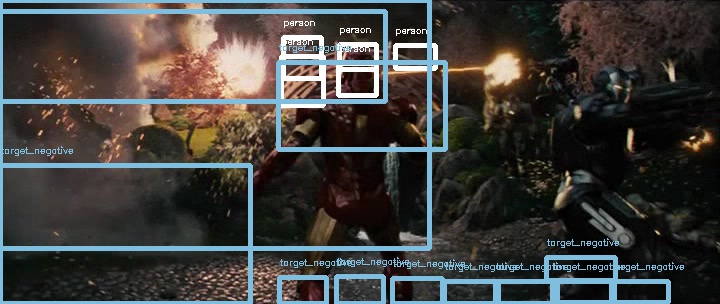person: (335, 46, 377, 93), (334, 46, 376, 93), (336, 46, 378, 93), (335, 45, 377, 92), (335, 47, 377, 94)
target_negative: (256, 150, 573, 284), (116, 150, 201, 243), (617, 121, 648, 274), (592, 110, 650, 158), (561, 40, 577, 188), (116, 60, 237, 75)
